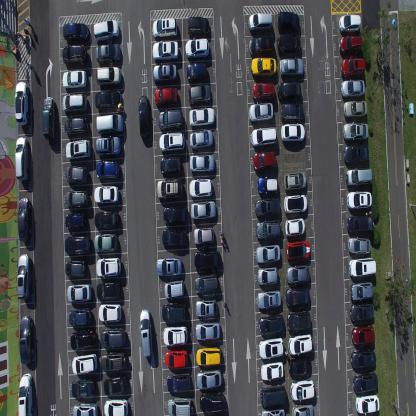car: (16, 252, 31, 300), (19, 314, 33, 365), (139, 307, 153, 357), (14, 80, 29, 126), (18, 372, 33, 416), (93, 18, 119, 43), (65, 137, 91, 162), (17, 196, 31, 242), (41, 95, 55, 140), (14, 136, 28, 181), (290, 377, 315, 402), (258, 336, 284, 360), (158, 130, 185, 153), (250, 125, 277, 148), (71, 352, 98, 375), (151, 40, 179, 62), (345, 166, 373, 188), (96, 112, 124, 134), (348, 257, 377, 278), (261, 384, 286, 408), (62, 43, 87, 67), (152, 16, 178, 39), (100, 350, 126, 373), (195, 345, 222, 367), (352, 372, 379, 394), (349, 347, 376, 369), (94, 89, 122, 110), (185, 36, 210, 59), (252, 149, 277, 172), (189, 105, 215, 127), (162, 227, 188, 249), (162, 324, 188, 346), (196, 368, 222, 390), (250, 56, 276, 78), (278, 56, 304, 78), (248, 101, 274, 123), (254, 196, 280, 218), (286, 309, 312, 331), (343, 144, 369, 166), (100, 327, 126, 349), (62, 92, 88, 114), (70, 328, 96, 350), (156, 179, 183, 200), (346, 214, 374, 234), (188, 82, 212, 105), (277, 10, 300, 34), (350, 279, 373, 303), (158, 109, 183, 131), (194, 272, 219, 294), (259, 313, 284, 335), (288, 334, 313, 356), (354, 393, 379, 415), (340, 77, 365, 99), (341, 55, 366, 77), (338, 33, 363, 55), (96, 256, 121, 278), (62, 68, 87, 90), (163, 205, 189, 226), (255, 219, 281, 240), (343, 121, 369, 142), (193, 250, 220, 270), (62, 22, 89, 42), (64, 234, 91, 254), (190, 128, 214, 150), (188, 178, 212, 200), (164, 348, 188, 370), (138, 94, 150, 138), (248, 12, 272, 34), (286, 240, 310, 262), (257, 288, 281, 310), (288, 356, 312, 378), (351, 324, 375, 346), (191, 199, 216, 220), (166, 372, 191, 393), (280, 122, 305, 143), (285, 287, 310, 308), (189, 153, 215, 173), (194, 321, 220, 341), (255, 243, 281, 263), (349, 302, 375, 322), (346, 190, 372, 210), (95, 64, 121, 84), (95, 136, 121, 156), (162, 302, 186, 323), (277, 80, 301, 101), (284, 194, 308, 215), (260, 360, 284, 381), (344, 100, 368, 121), (103, 375, 127, 396), (249, 35, 274, 55), (93, 184, 118, 204), (67, 282, 92, 302), (156, 257, 182, 276), (199, 392, 225, 411), (167, 396, 193, 415), (95, 281, 121, 300), (65, 187, 88, 208), (153, 63, 177, 83), (277, 34, 301, 54), (280, 102, 304, 122), (96, 160, 120, 180), (71, 377, 95, 397), (347, 235, 372, 254), (64, 117, 89, 136), (95, 44, 121, 62), (187, 15, 209, 36), (163, 278, 184, 300), (256, 175, 278, 196), (284, 216, 306, 237), (154, 86, 177, 106), (286, 264, 309, 284), (338, 12, 361, 32), (94, 232, 117, 252), (69, 306, 92, 326), (94, 210, 118, 229), (98, 303, 122, 322), (64, 165, 89, 183), (186, 61, 207, 82), (195, 298, 217, 318), (252, 82, 274, 102), (256, 265, 278, 285), (64, 210, 86, 230), (284, 172, 307, 191), (104, 398, 128, 416), (160, 157, 182, 176), (193, 226, 214, 245), (64, 260, 86, 278), (72, 402, 98, 416), (292, 403, 314, 415), (260, 408, 286, 416)
